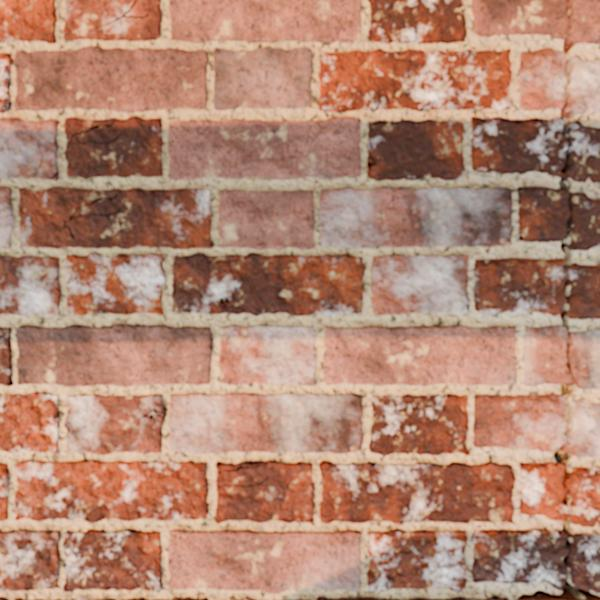brick: (14, 46, 207, 111), (319, 461, 514, 524), (14, 460, 207, 522), (168, 530, 360, 592), (319, 49, 511, 111), (168, 117, 359, 179), (19, 187, 211, 248), (172, 254, 363, 315), (17, 325, 211, 385), (319, 187, 512, 247), (169, 393, 361, 452), (324, 327, 515, 385), (170, 0, 360, 42), (63, 530, 161, 592), (367, 530, 466, 591), (214, 47, 311, 109), (66, 253, 164, 314), (215, 461, 313, 522), (369, 394, 468, 454), (65, 394, 165, 453), (64, 117, 161, 177), (367, 119, 463, 179), (371, 255, 468, 314), (219, 325, 315, 384), (219, 190, 313, 248), (368, 0, 466, 42), (64, 0, 160, 40), (0, 256, 60, 315), (0, 530, 59, 590), (0, 394, 59, 452), (0, 118, 57, 178), (0, 0, 56, 42), (0, 188, 13, 246), (0, 53, 12, 112), (0, 327, 11, 385), (0, 463, 8, 520), (216, 461, 256, 469), (73, 597, 95, 599), (337, 598, 377, 599), (487, 597, 506, 599), (173, 598, 191, 599), (451, 598, 467, 599), (130, 598, 145, 599)
broken_brick: (470, 115, 566, 177), (471, 528, 567, 590), (472, 393, 564, 452), (473, 257, 564, 316), (470, 0, 567, 40), (518, 46, 564, 111), (523, 325, 570, 386), (517, 186, 568, 242), (519, 461, 566, 521), (567, 120, 599, 183), (568, 54, 599, 115), (569, 466, 599, 527), (569, 262, 599, 320), (570, 329, 599, 389), (571, 533, 599, 593), (571, 398, 599, 457), (571, 192, 599, 251), (571, 0, 599, 45)
crack: (518, 0, 599, 599), (94, 0, 149, 29), (65, 121, 123, 148), (129, 405, 164, 434), (216, 476, 269, 489), (217, 460, 260, 474), (206, 253, 253, 264), (32, 142, 43, 178), (366, 155, 377, 172), (526, 326, 535, 344), (520, 464, 523, 514), (518, 220, 523, 240), (368, 120, 386, 125), (504, 224, 512, 232), (51, 172, 58, 180), (533, 259, 556, 261), (354, 431, 361, 437), (465, 304, 469, 310), (16, 486, 24, 489)
